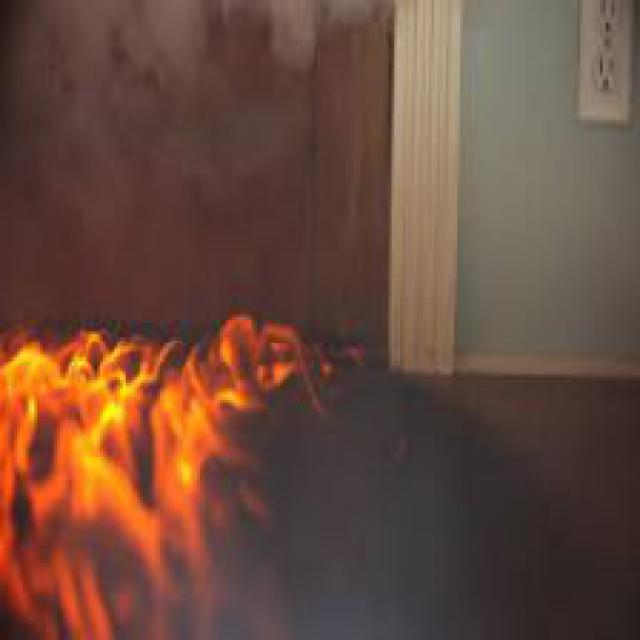fire: (3, 300, 391, 637)
